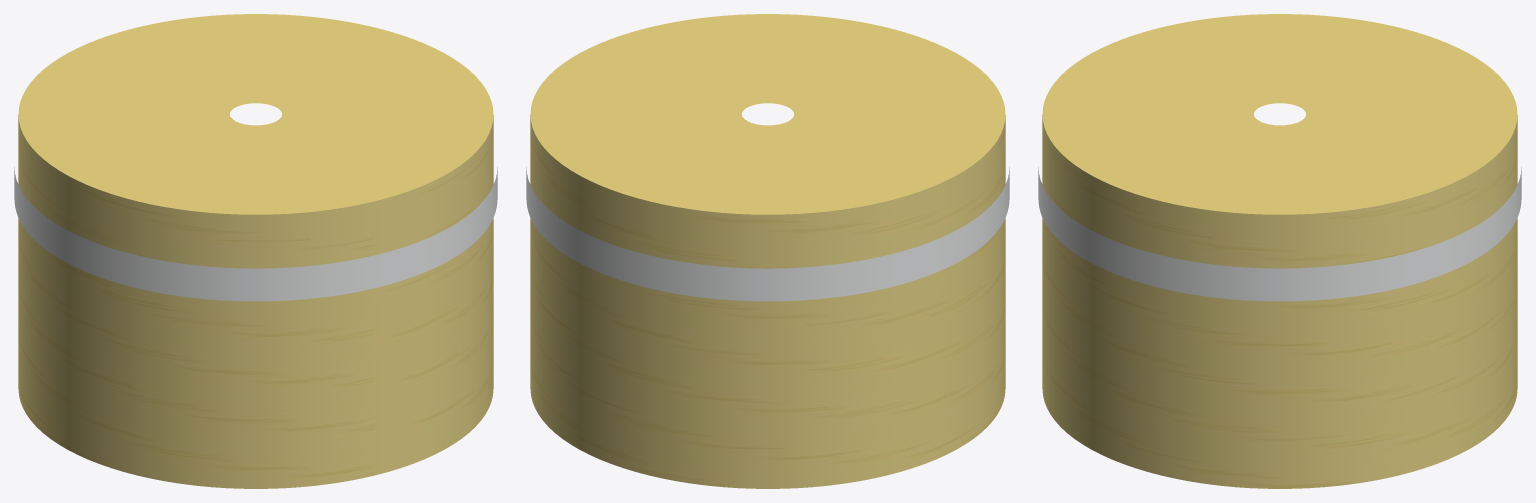
3 views of the same model, side by side, from view 1: azimuth 30°, elevation 25°; view 2: azimuth 150°, elevation 25°; view 3: azimuth 270°, elevation 25° (orthographic).
Visible parts, largest first — view 1: WE100; view 2: WE100; view 3: WE100.
Boxes of the visible parts, box(x1,y1,x2,y2) form: WE100: box(14, 14, 497, 488); WE100: box(526, 14, 1009, 488); WE100: box(1038, 14, 1521, 488).
Size of the model in its own units: 0.182 by 0.114 by 0.182.
Materials: 5 (1 with a texture image).
